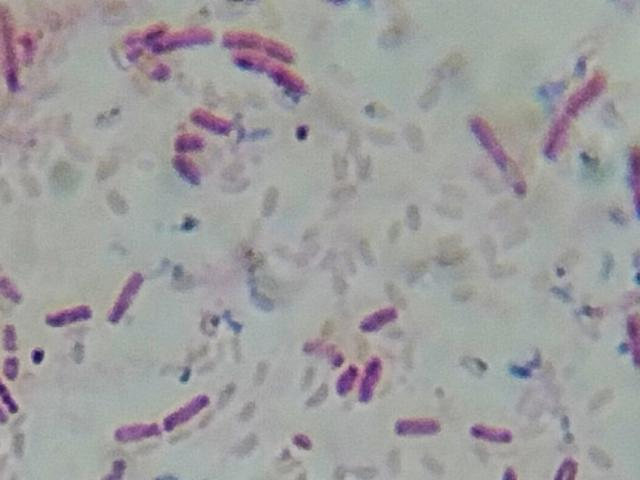E. coli: (467, 106, 535, 205), (543, 70, 609, 157), (218, 21, 298, 58), (102, 270, 149, 331), (238, 56, 306, 94), (166, 389, 215, 434), (46, 301, 96, 334), (357, 350, 384, 407), (469, 415, 515, 448), (394, 410, 444, 439), (362, 300, 408, 331), (2, 18, 21, 89), (117, 415, 162, 444), (193, 105, 235, 133), (332, 357, 360, 399), (627, 136, 640, 226), (157, 32, 212, 52), (548, 451, 585, 480), (0, 268, 22, 304), (0, 380, 20, 418), (170, 128, 203, 151), (0, 319, 22, 353), (177, 156, 198, 187), (492, 461, 523, 480), (6, 354, 22, 378)
